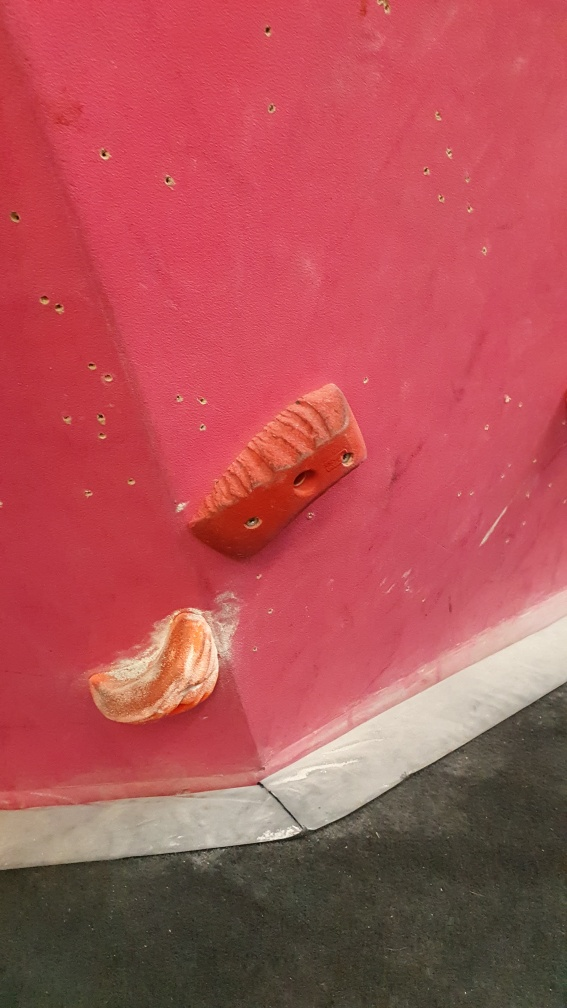Crimp: (181, 388, 374, 561)
Jug: (85, 606, 224, 729)
